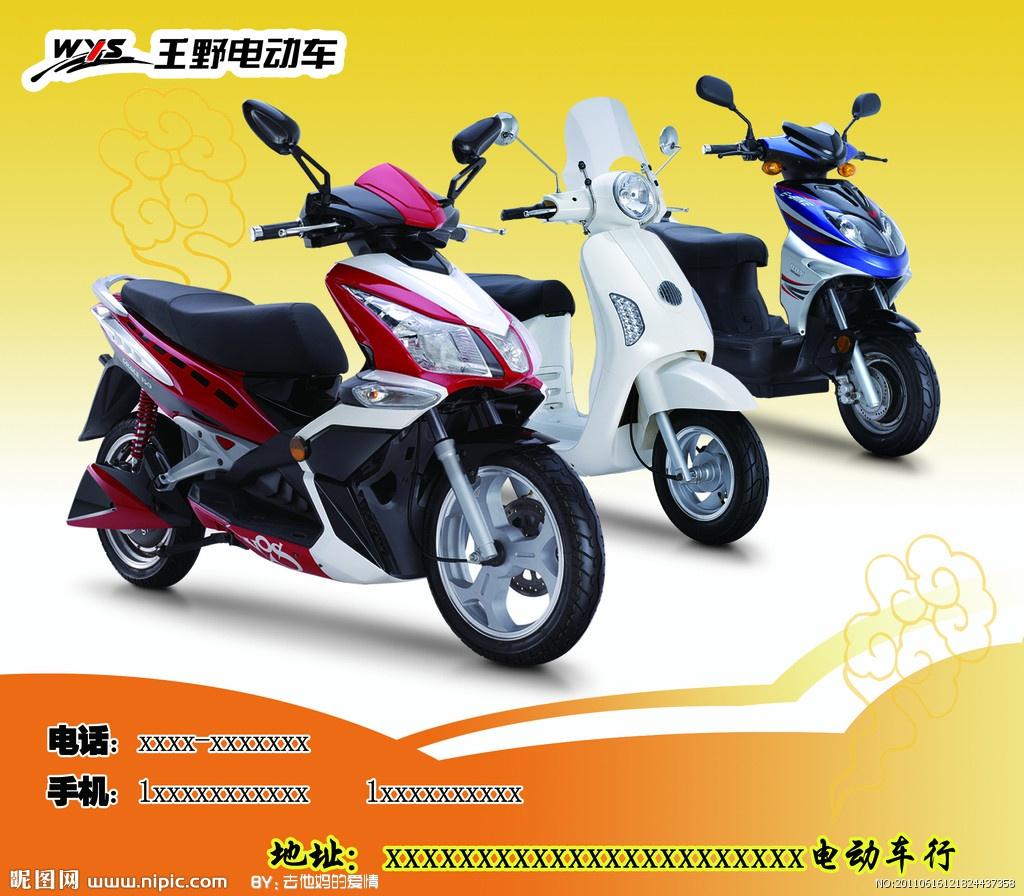non-vehicle: (65, 162, 602, 666), (502, 105, 767, 548), (674, 88, 939, 458)
